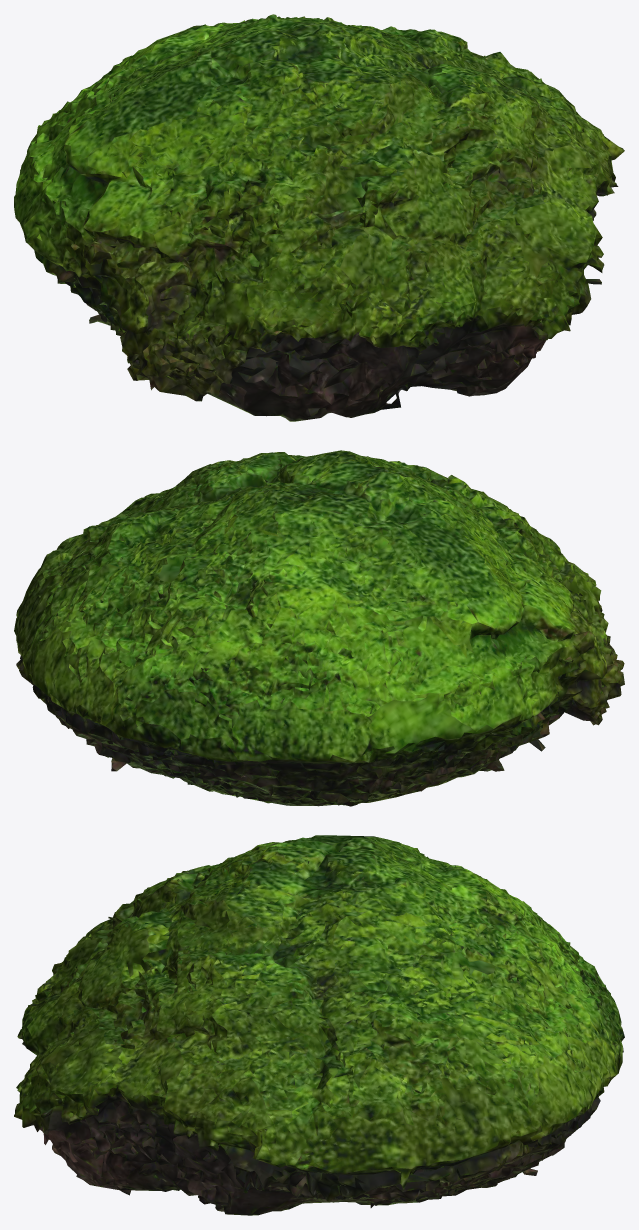
File: moss-cushion.glb
3 views of the same model, one above another, from view 1: azimuth 30°, elevation 25°; view 2: azimuth 150°, elevation 25°; view 3: azimuth 270°, elevation 25° (orthographic). The views are drawn at different scales.
Visible parts, largest first — view 1: geometry_0; view 2: geometry_0; view 3: geometry_0.
Boxes of the visible parts, bbox=[...] form: geometry_0: bbox=[14, 14, 624, 421]; geometry_0: bbox=[14, 450, 624, 806]; geometry_0: bbox=[14, 835, 624, 1215].
Size of the model in its own units: 0.1198 by 0.0618 by 0.1199.
Materials: 1 (1 with a texture image).
